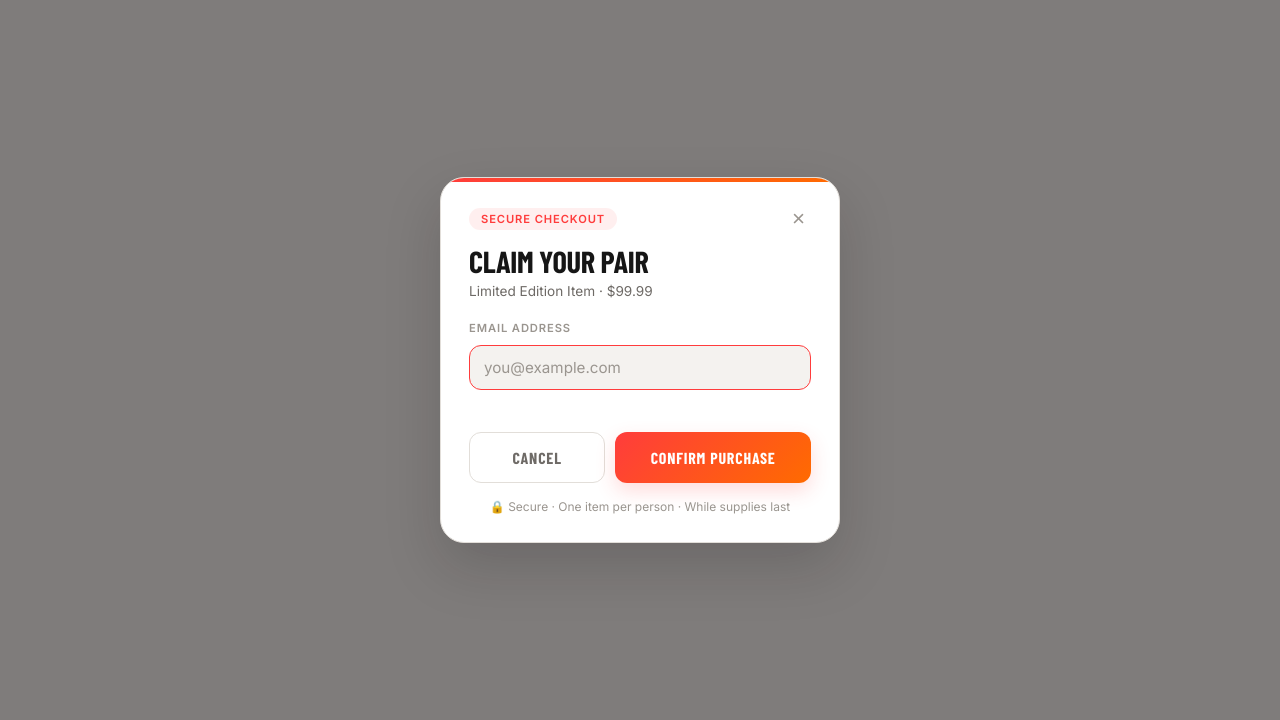
Test: PurchaseModal › rejects submit when the field is empty
Click the button "Confirm purchase" at x=713, y=458, box [615,432,811,483]
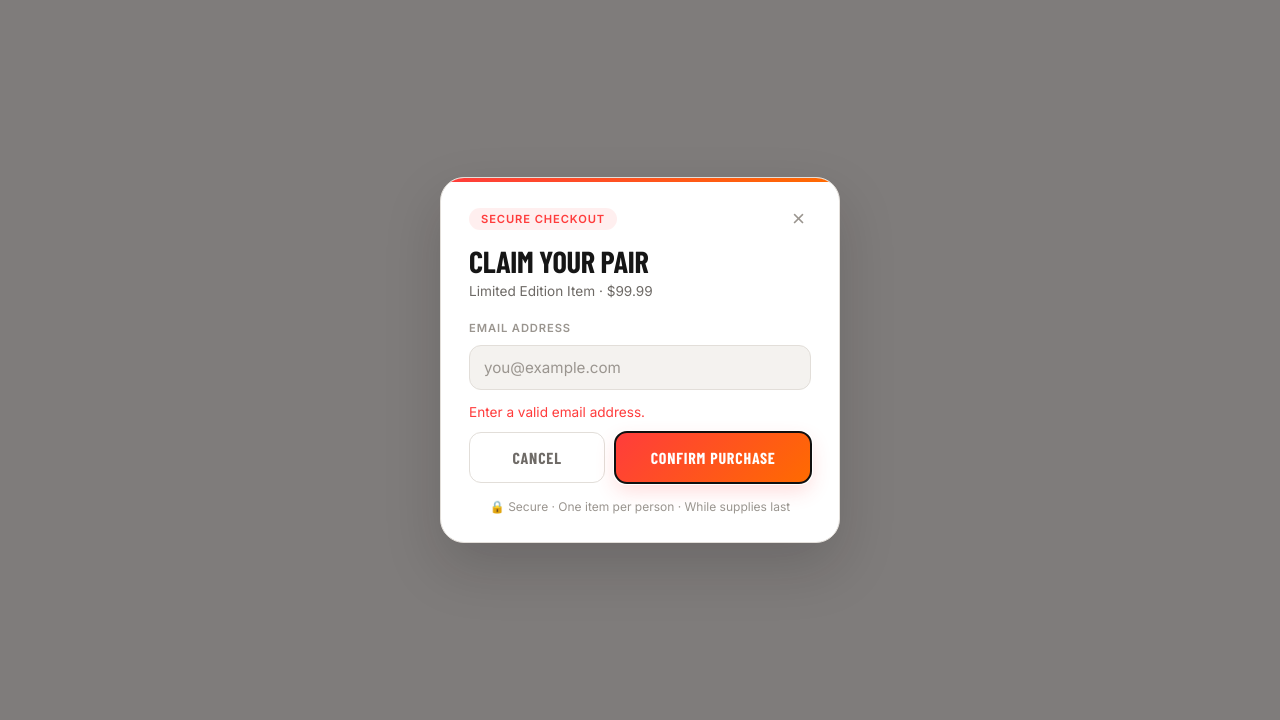
expect the text "Enter a valid email address." is shown: met, box [469,404,645,420]
